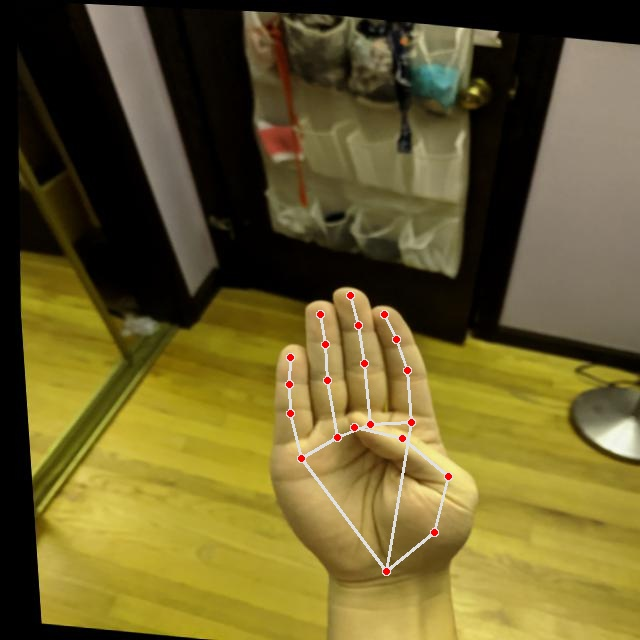B: (242, 271, 498, 600)
